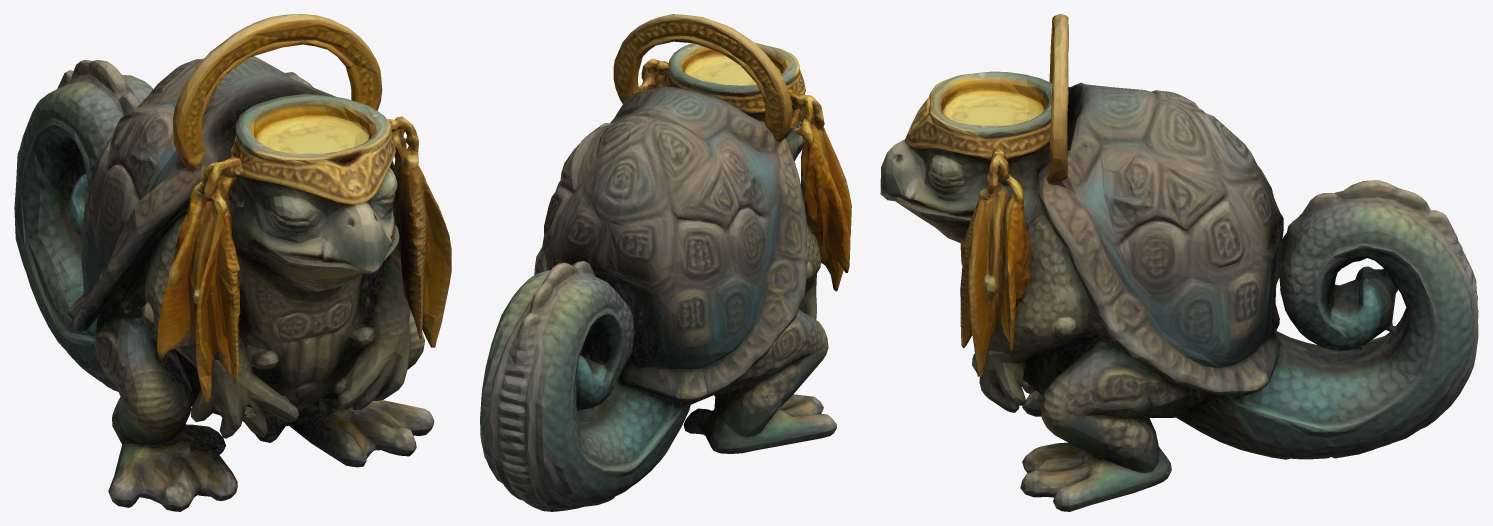
Rendered from kappadeep__bowlSage.glb.
3 renders of one model, left to right at view 1: azimuth 30°, elevation 25°; view 2: azimuth 150°, elevation 25°; view 3: azimuth 270°, elevation 25°, orthographic. The views are drawn at different scales.
Parts seen in each view (by area): view 1: world; view 2: world; view 3: world.
Part boxes in pixels (left/top/right/bottom): world: left=14, top=14, right=451, bottom=511; world: left=480, top=14, right=851, bottom=511; world: left=880, top=14, right=1478, bottom=511.
Bounding box in the file's own units: 0.5738 × 0.791 × 0.9988.
Materials: 1 (1 with a texture image).
